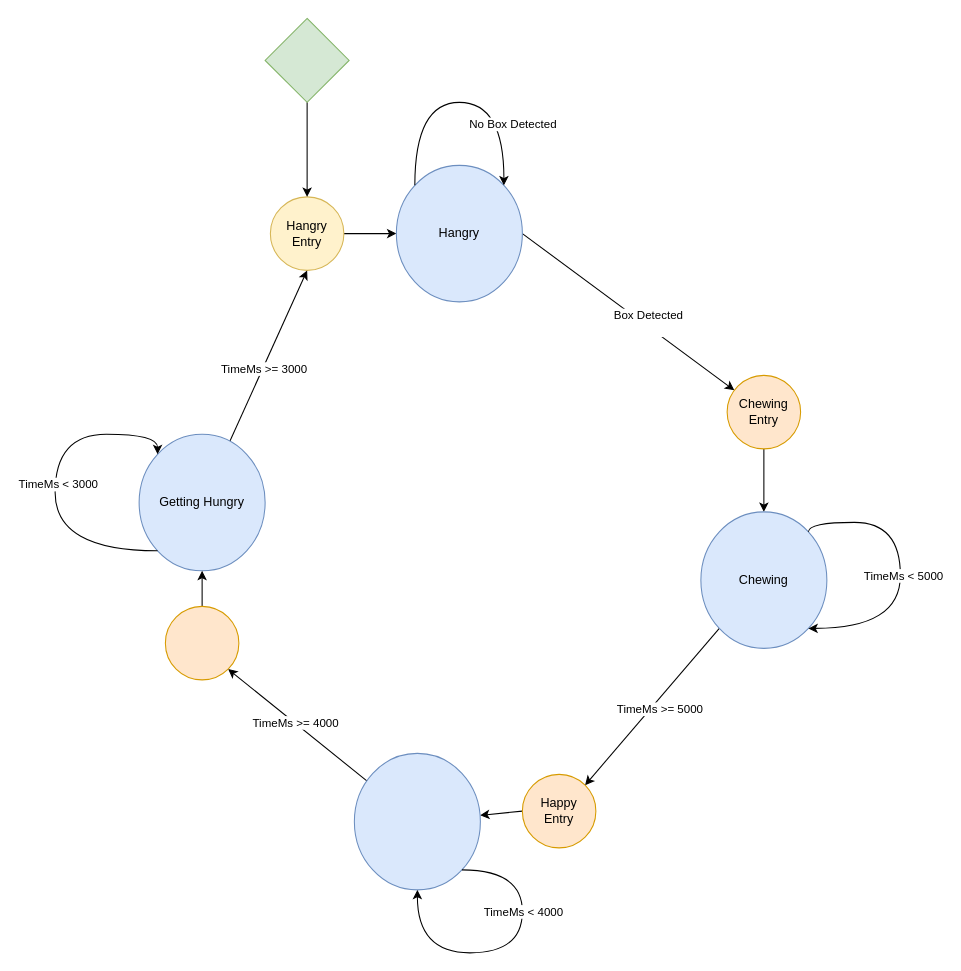
Image size: 961x971. Some labels were removed from this diagram. The shapes that lost their labels are listed below. From the top down, each one's box as (x1, y1, x2, y2) in pixels, then its label:
(264, 17, 349, 102): Start
(164, 605, 239, 680): Getting Hungry Entry
(353, 752, 480, 890): Happy
